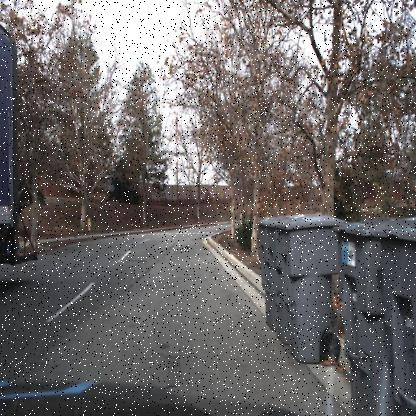truck: (0, 22, 38, 267)
